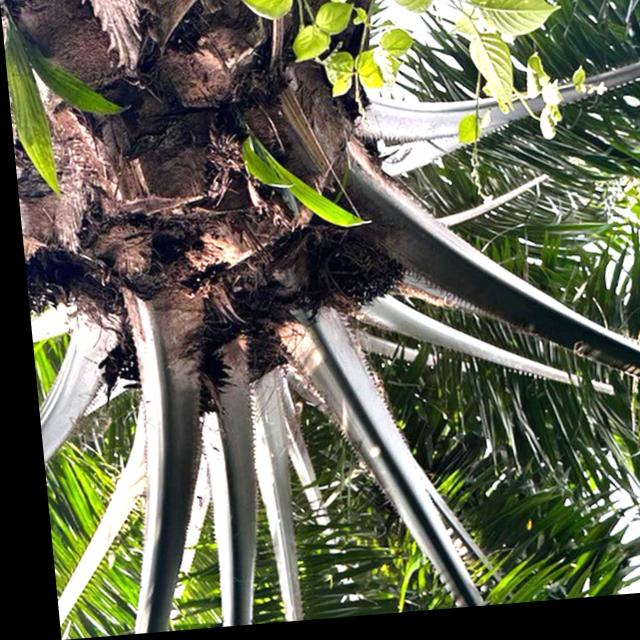unripe: (279, 209, 412, 329)
